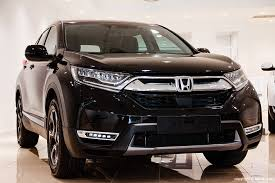Honda: (11, 18, 264, 180)
